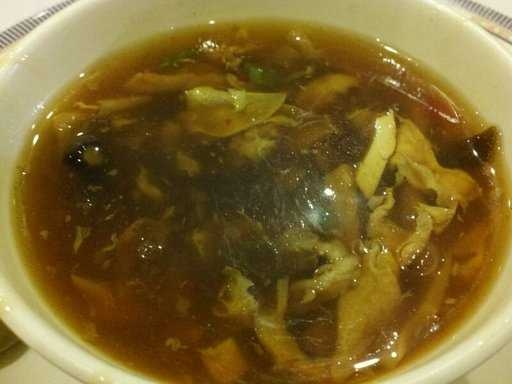soup: (1, 16, 503, 380)
